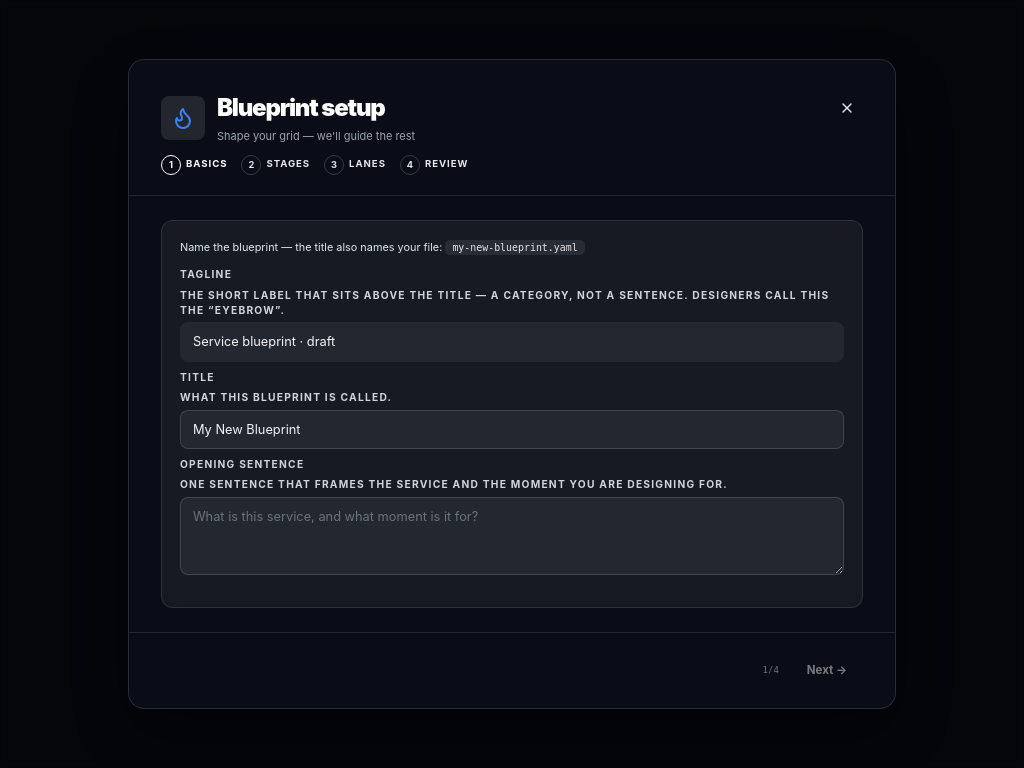
Test: SetupWizardModal — the guided from-scratch flow › Back navigates without losing typed state, and focus lands in the step
The image size is (1024, 768).
Type "kept" into the text box named "Wizard opening sentence" at (512,536), box [180,497,844,575]
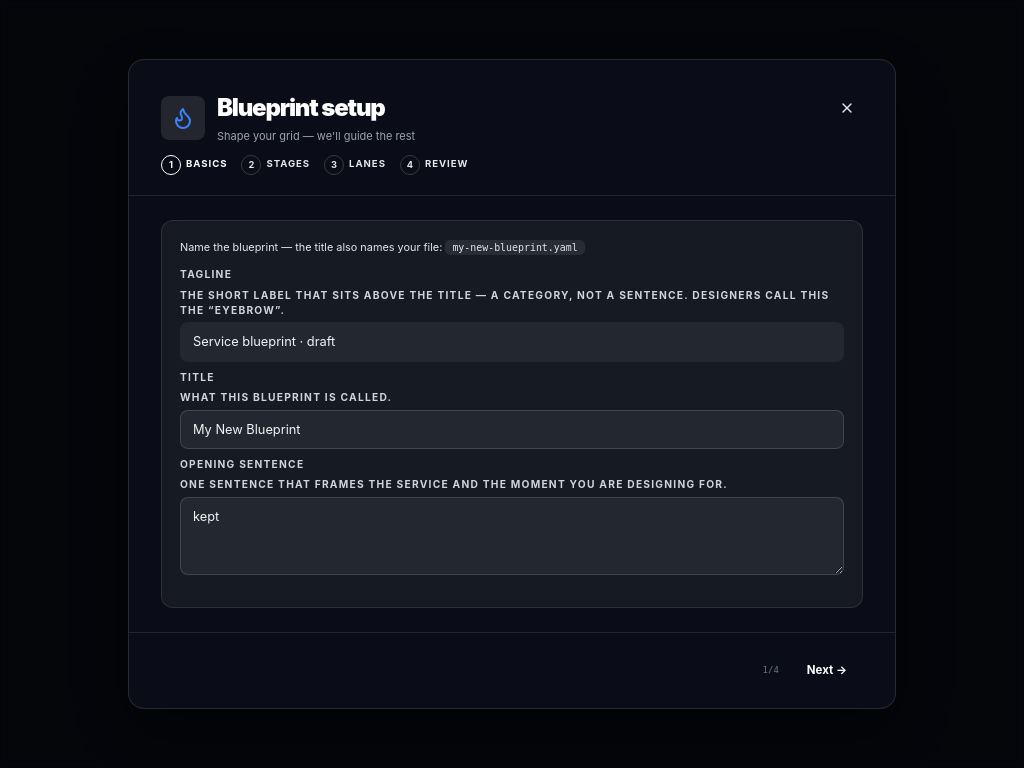
Click the button with test id "wizard-next" at (827,670), box [791,653,863,688]
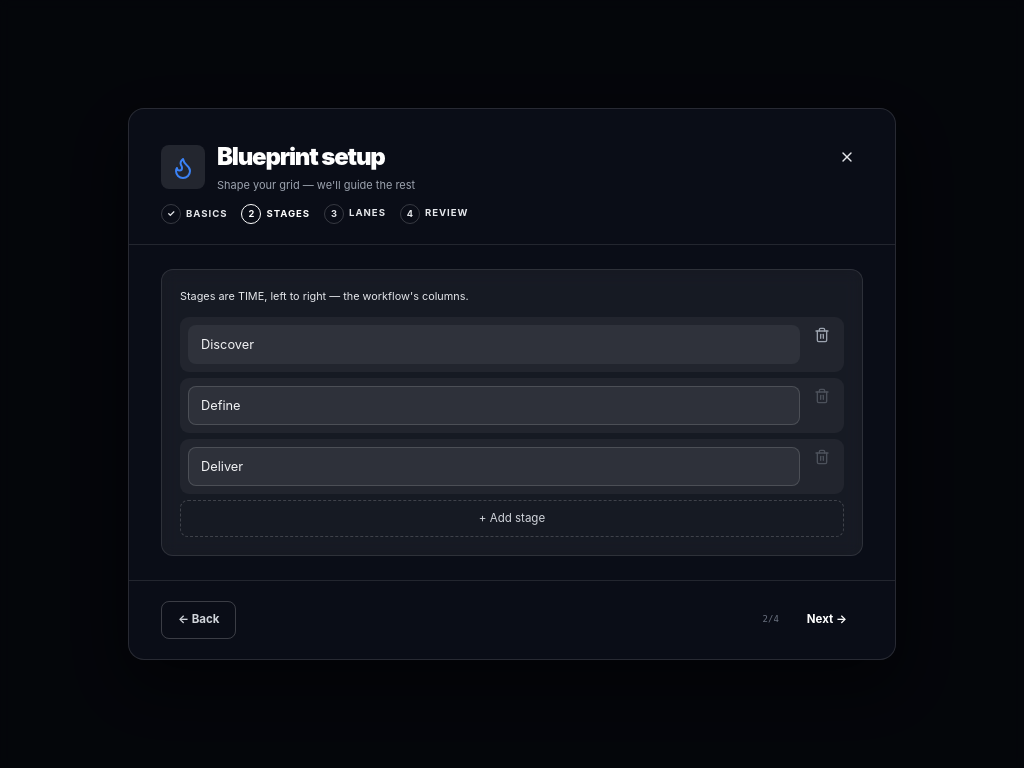
Replace the text in the field named "Wizard stage 1 name" with "Custom stage" at (494,344), box [188,325,800,364]
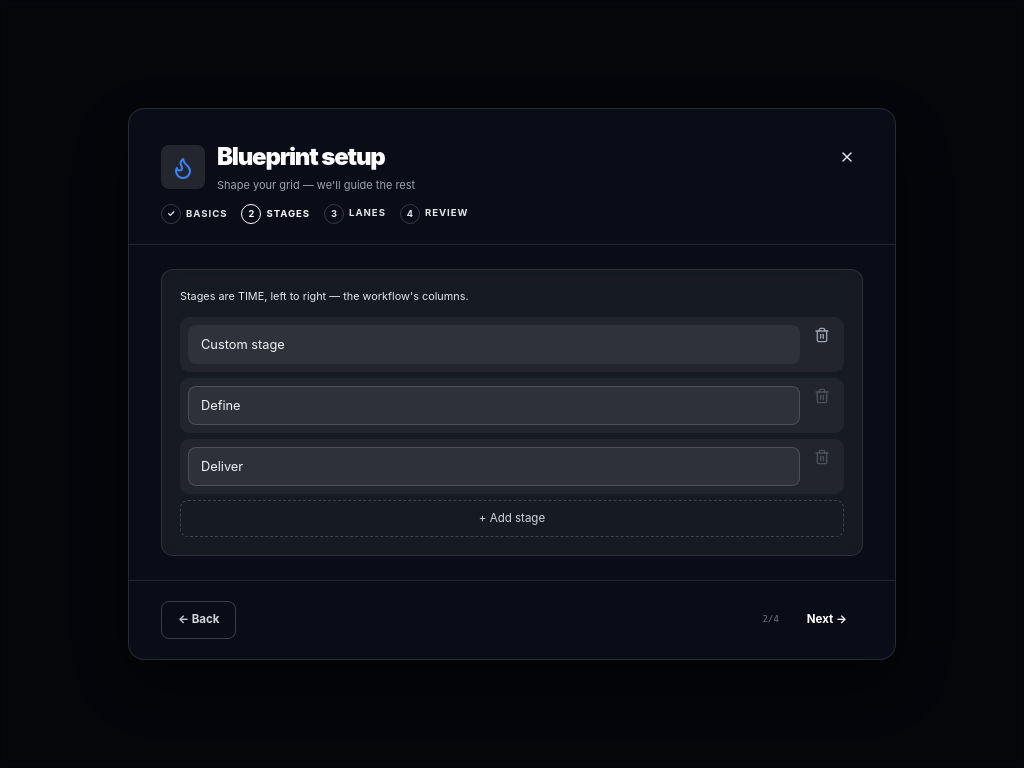
Click the button "← Back" at (199,620), box [161,602,236,639]
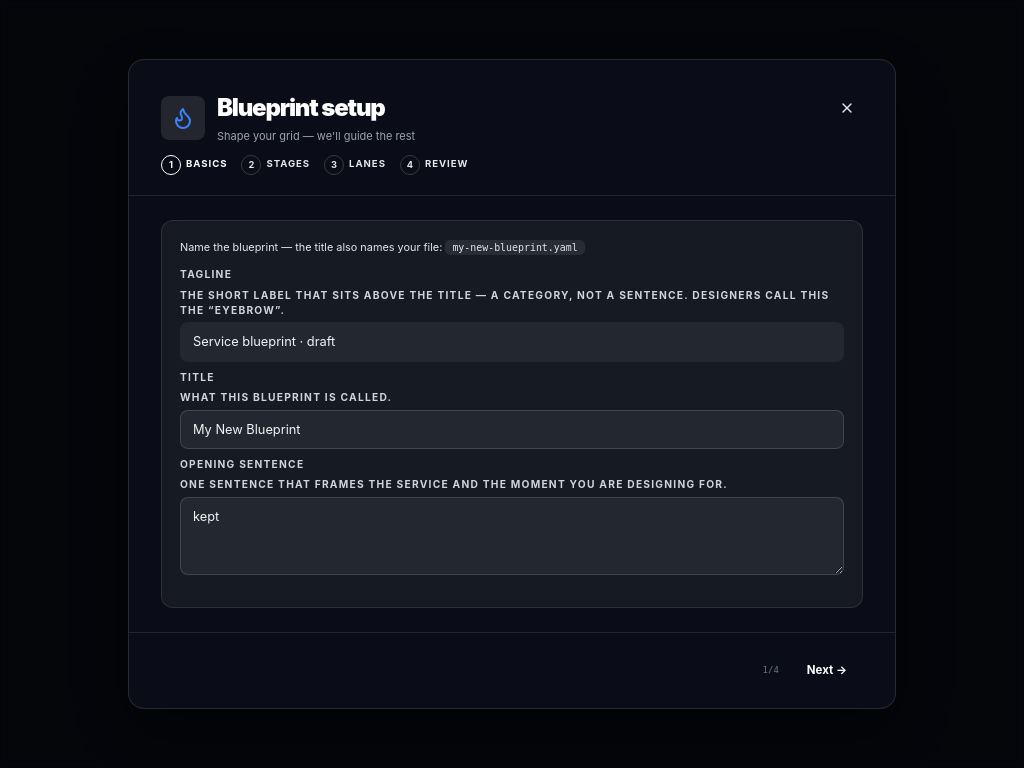
Result: the text box named "Wizard opening sentence" holds "kept" at [180,497,844,575]
Click the button with test id "wizard-next" at (827,670), box [791,653,863,688]
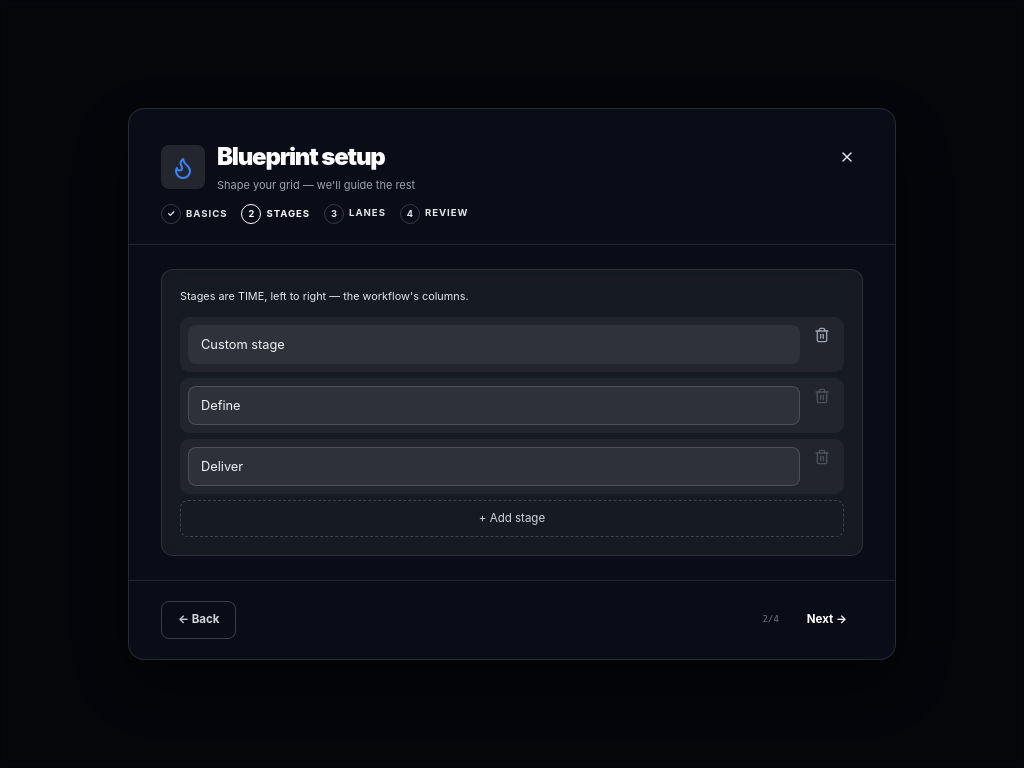
Result: the field named "Wizard stage 1 name" holds "Custom stage" at [188,325,800,364]
